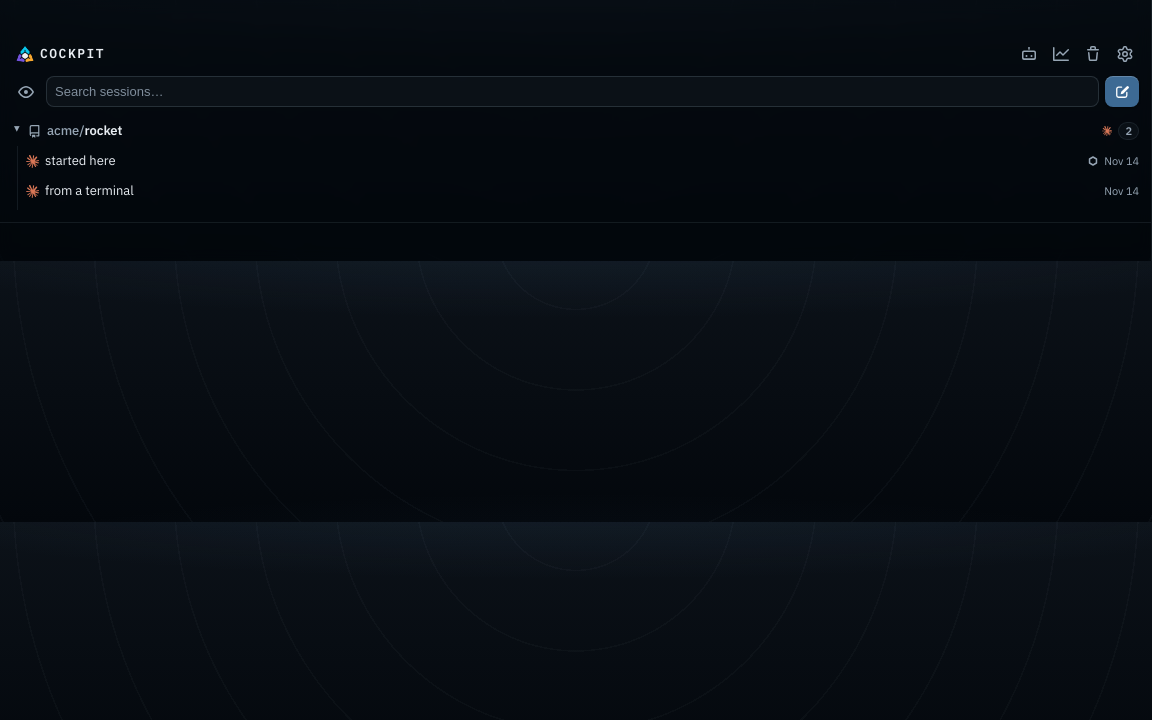
Test: who drives a session › narrows the tree to one side from the eye, says so, and shows all again
Expected: the list item "from a terminal Nov 14" is shown, left=26, top=182, right=1139, bottom=199
Click the button named "Choose what the tree shows".
click(26, 92)  # box left=12, top=78, right=40, bottom=106
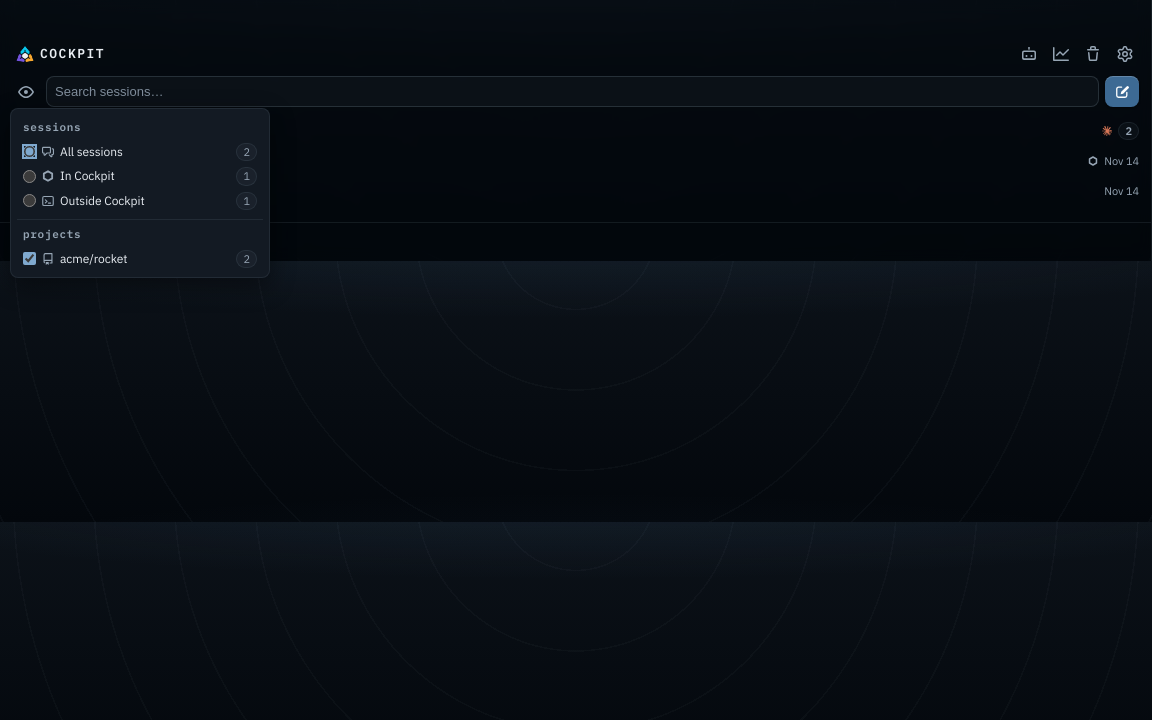
Expected: the radio button labelled "All sessions 2" is checked, left=23, top=145, right=36, bottom=158
Click the radio button labelled "In Cockpit 1".
click(30, 176)  # box left=23, top=170, right=36, bottom=183
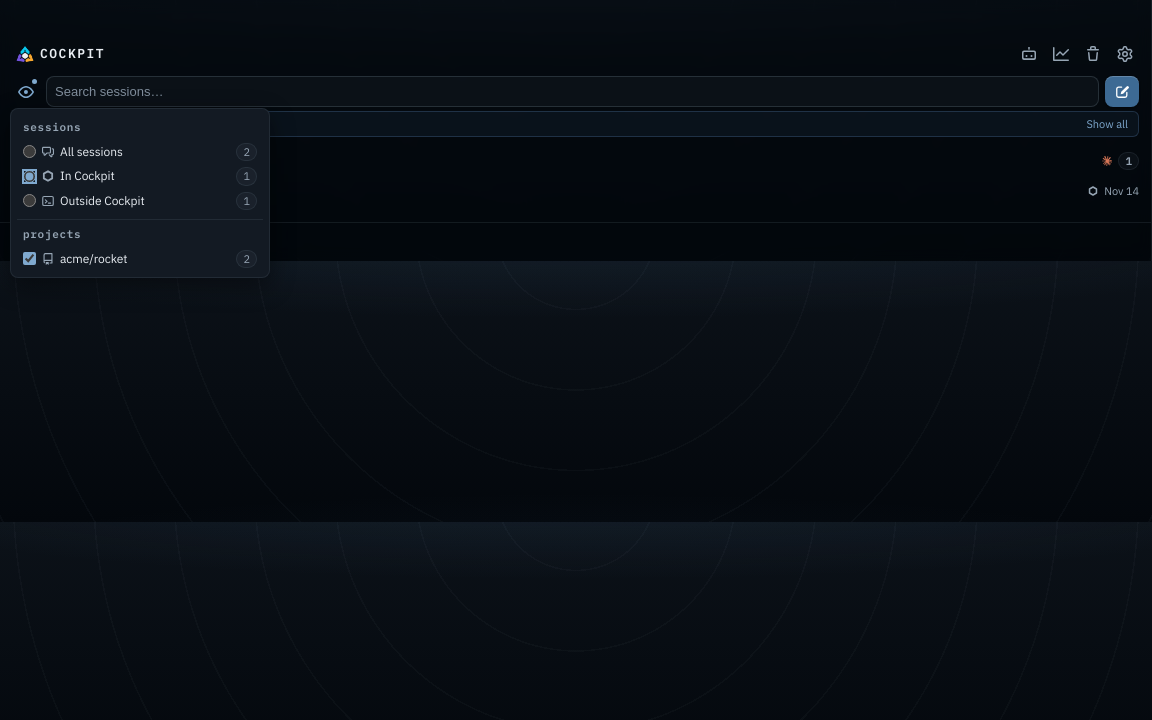
Expected: the list item "started here Nov 14" is shown, left=18, top=176, right=1145, bottom=206
Expected: the text "from a terminal" is gone
Expected: the list item "▸ acme/rocket 1" is shown, left=6, top=146, right=1145, bottom=176
Click the button "Show all".
click(1107, 124)  # box left=1080, top=112, right=1134, bottom=136
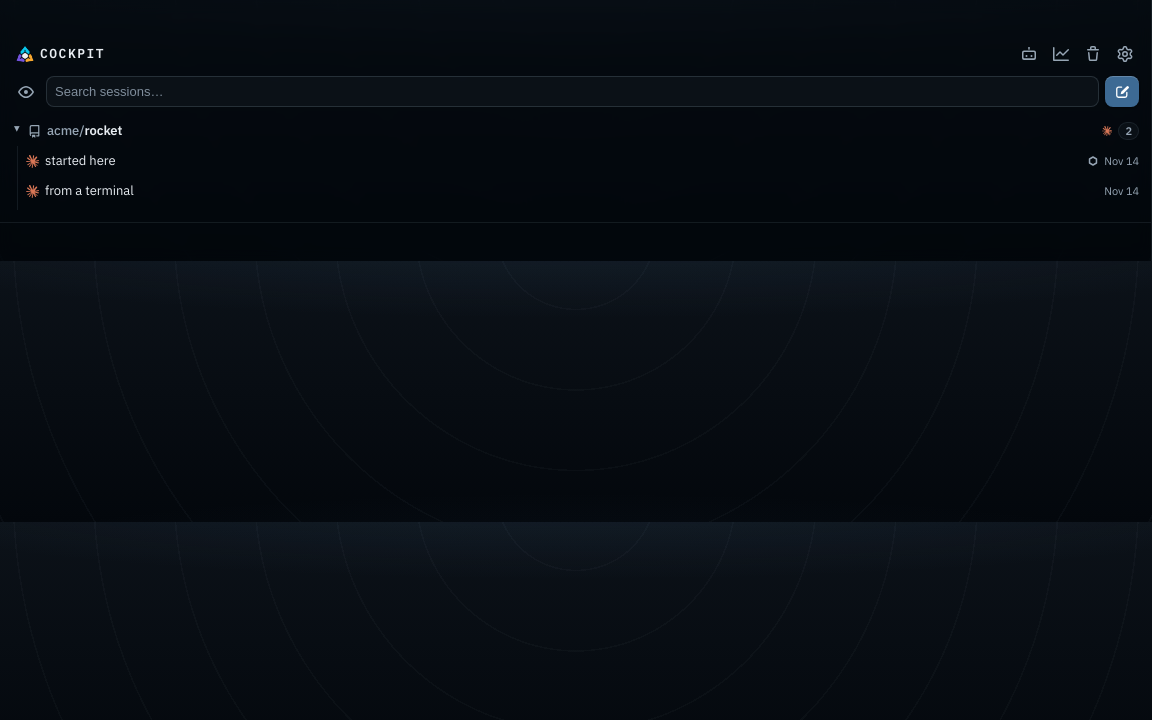
Expected: the list item "from a terminal Nov 14" is shown, left=26, top=182, right=1139, bottom=199
Expected: the text "Only sessions in Cockpit" is gone
